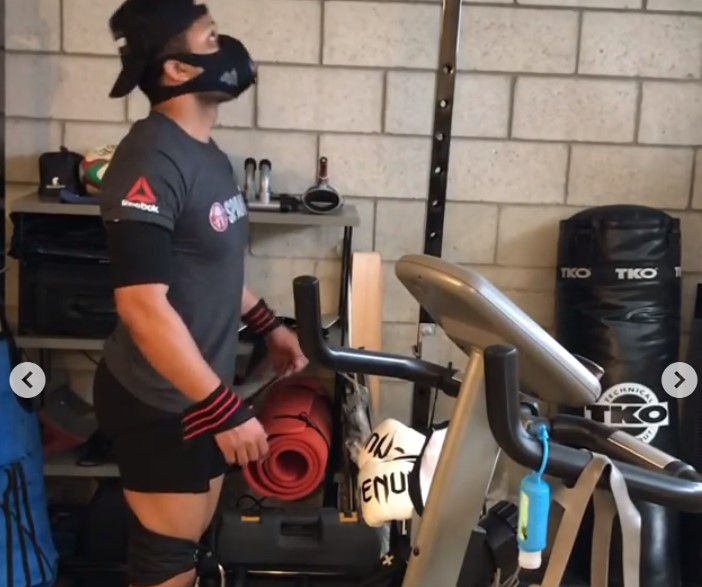face_with_mask: (110, 2, 261, 118)
